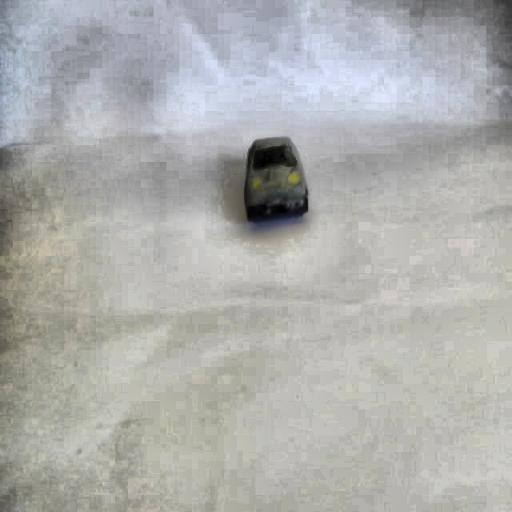normal_car: (243, 135, 310, 221)
